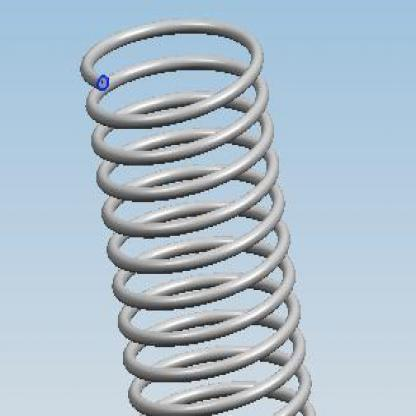FOD: (72, 14, 325, 414)
